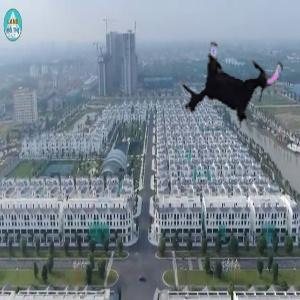drone: (172, 24, 289, 141)
